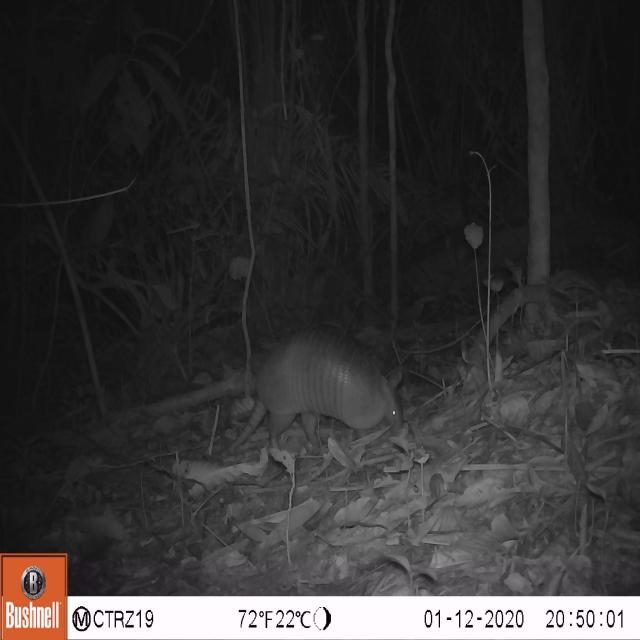Armadillo: (214, 316, 407, 468)
